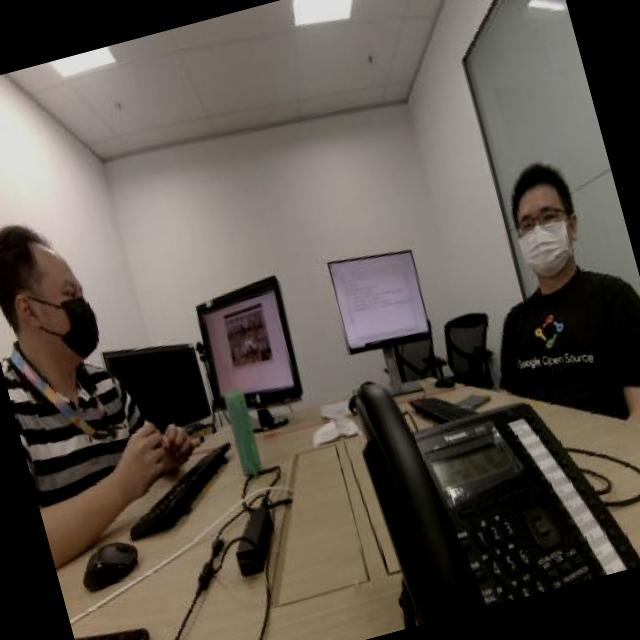Person: (0, 185, 159, 509), (451, 143, 640, 390)
